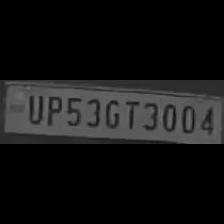0: (160, 99, 178, 133), (178, 102, 196, 134)
3: (139, 98, 159, 132), (82, 94, 100, 128)
4: (196, 102, 216, 136)
5: (62, 93, 84, 127)
G: (100, 96, 120, 130)
P: (42, 92, 62, 125)
T: (122, 97, 140, 130)
U: (22, 92, 44, 124)
